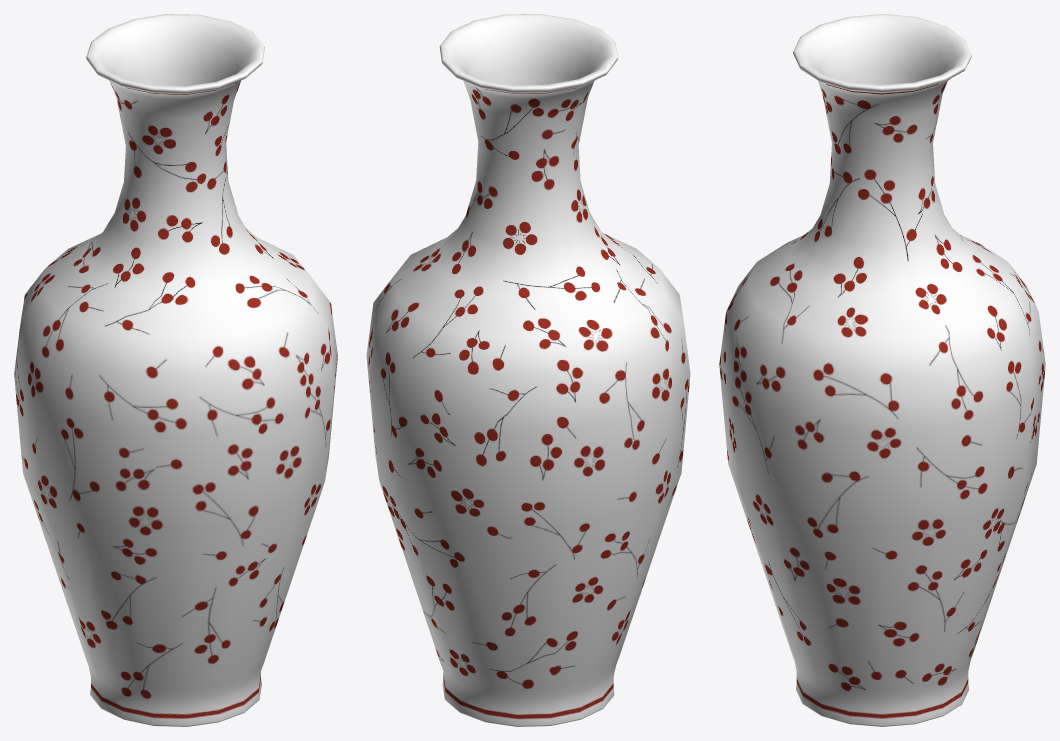
Rendered from flower-vase.glb.
3 views of the same model, side by side, from view 1: azimuth 30°, elevation 25°; view 2: azimuth 150°, elevation 25°; view 3: azimuth 270°, elevation 25° (orthographic).
Parts seen in each view (by area): view 1: #VAS0001_Vase; view 2: #VAS0001_Vase; view 3: #VAS0001_Vase.
Part boxes in pixels (x1,y1,x2,y2): #VAS0001_Vase: (14,14,337,726); #VAS0001_Vase: (366,14,690,726); #VAS0001_Vase: (719,14,1045,726).
Bounding box in the file's own units: 0.1385 × 0.3001 × 0.1385.
1 material, 1 textured.
